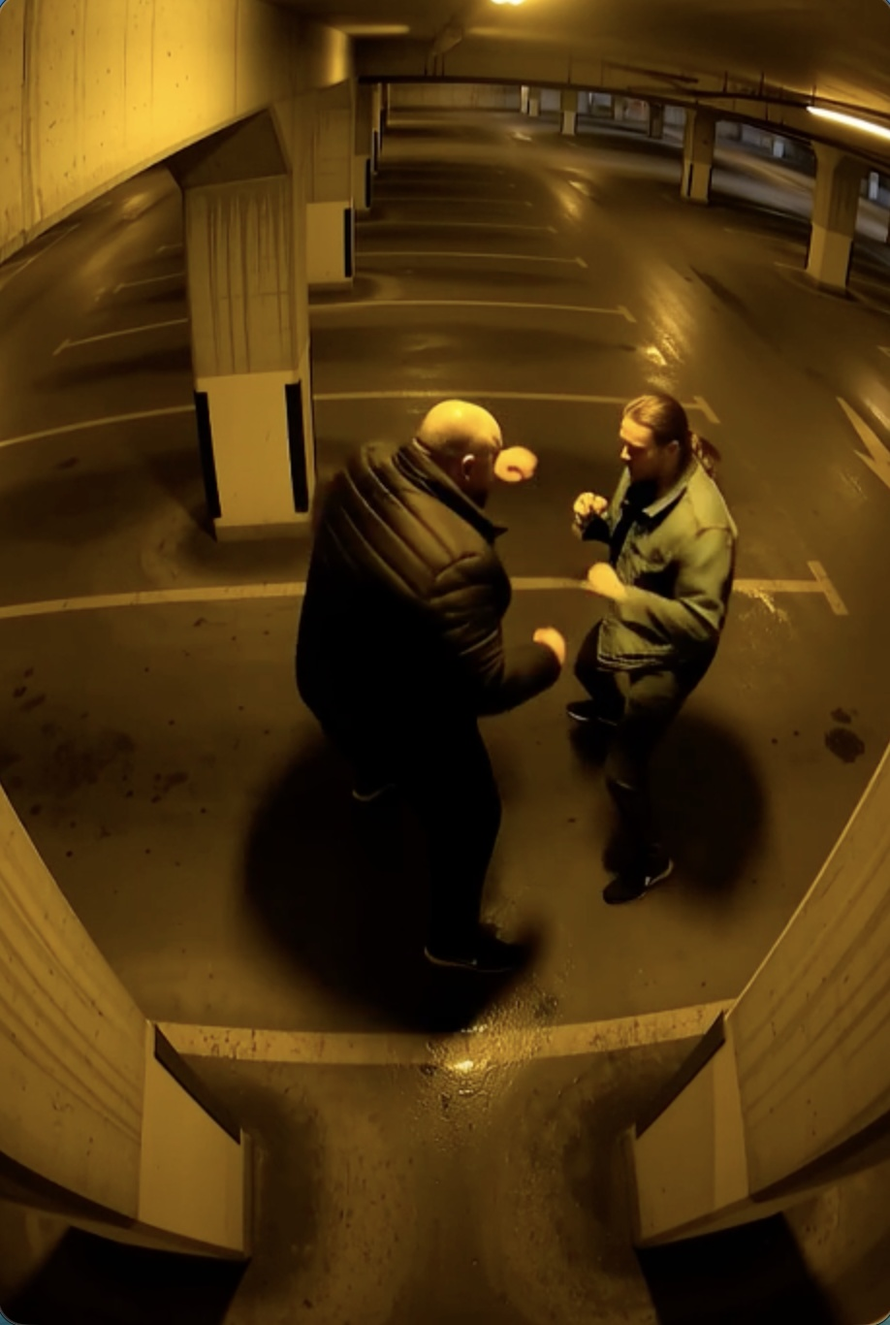Assault: (292, 397, 566, 975)
Fighting: (564, 391, 739, 908)
